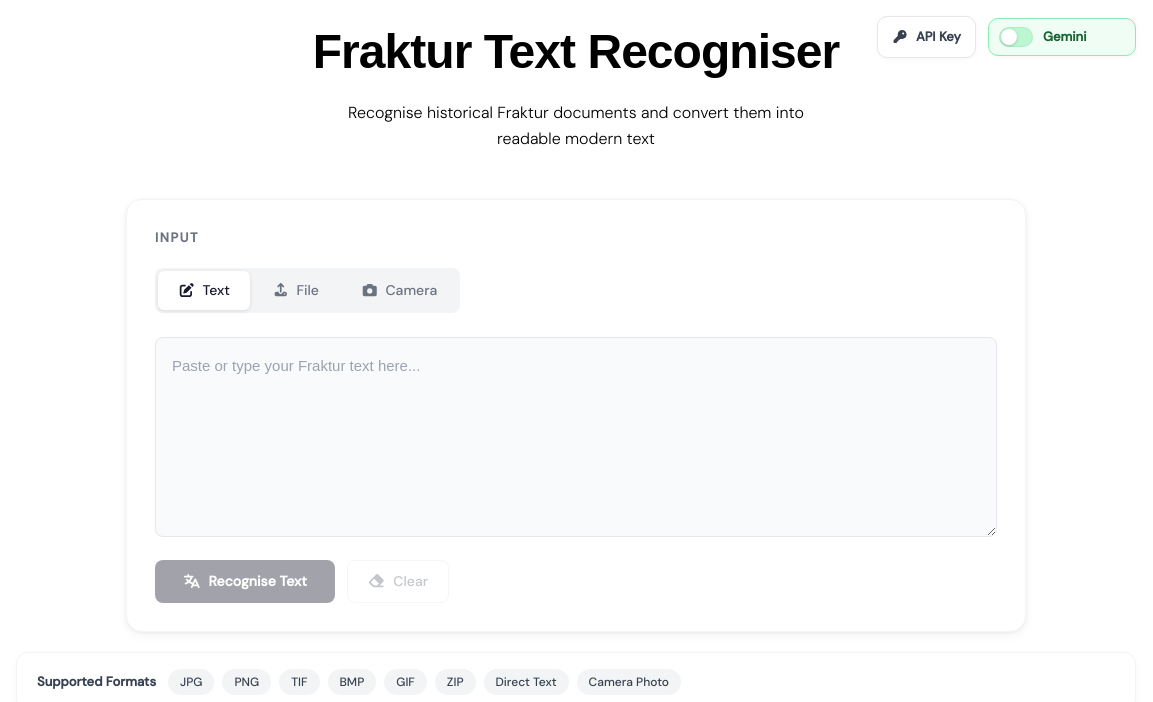
it: TranslatorPage › switches to Camera tab on click
Click the button "Camera": (399, 290) [341,271,457,310]
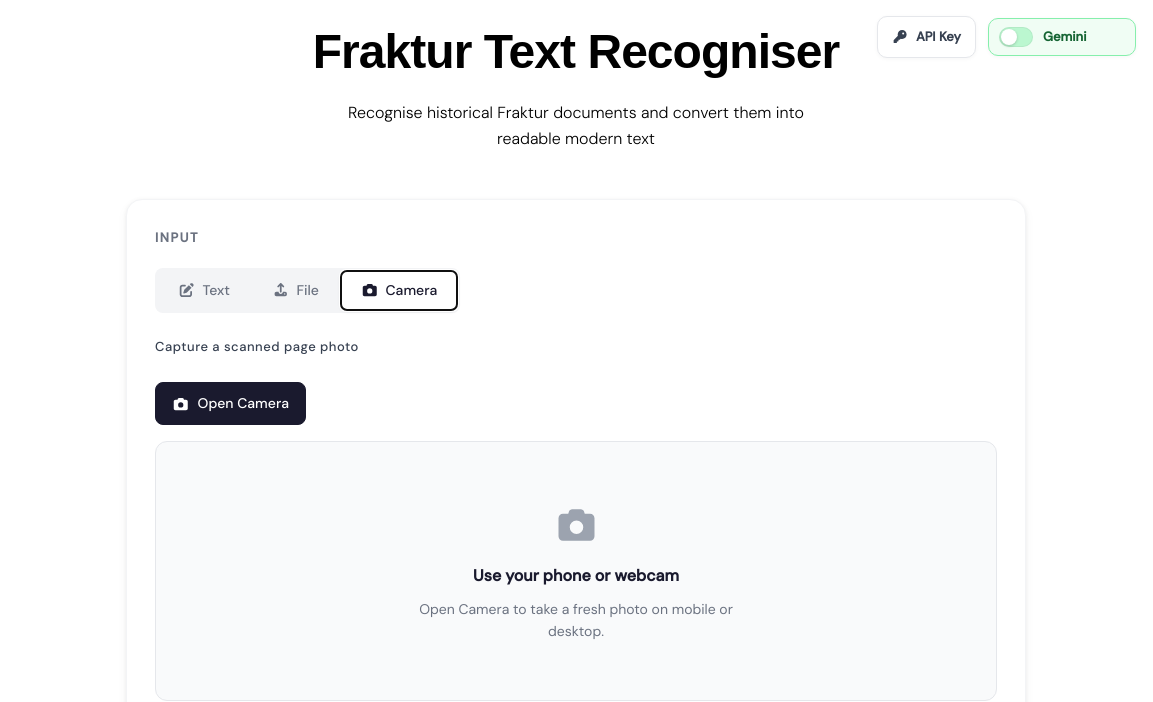
Check: the button "Open Camera" is shown, box [155,382,306,425]
